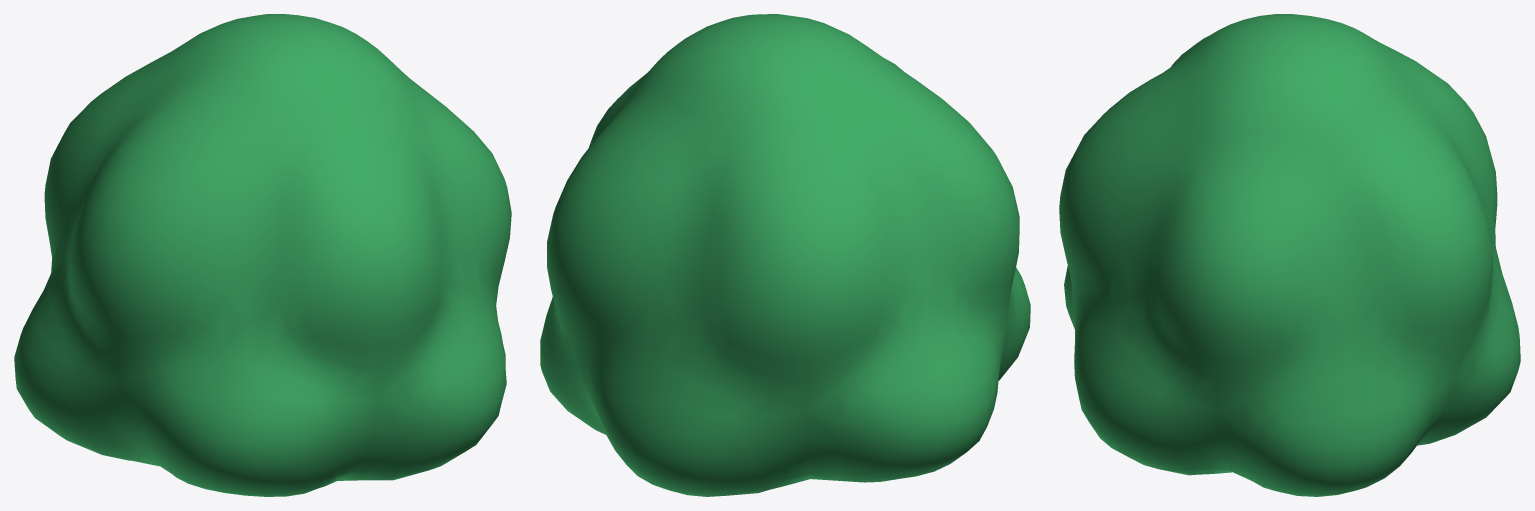
Rendered from Tree_Top_D_03.fbx.
3 views of the same model, side by side, from view 1: azimuth 30°, elevation 25°; view 2: azimuth 150°, elevation 25°; view 3: azimuth 270°, elevation 25° (orthographic). The views are drawn at different scales.
Parts seen in each view (by area): view 1: Tree_Top_D_03_LOD0; view 2: Tree_Top_D_03_LOD0; view 3: Tree_Top_D_03_LOD0.
Part boxes in pixels (<box>): Tree_Top_D_03_LOD0: <box>14,14,511,496</box>; Tree_Top_D_03_LOD0: <box>540,14,1030,496</box>; Tree_Top_D_03_LOD0: <box>1059,14,1520,496</box>.
Size of what is drawn, in the model's own units: 670 by 613 by 638.
